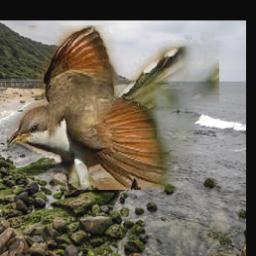Cuckoo: (7, 26, 219, 191)
